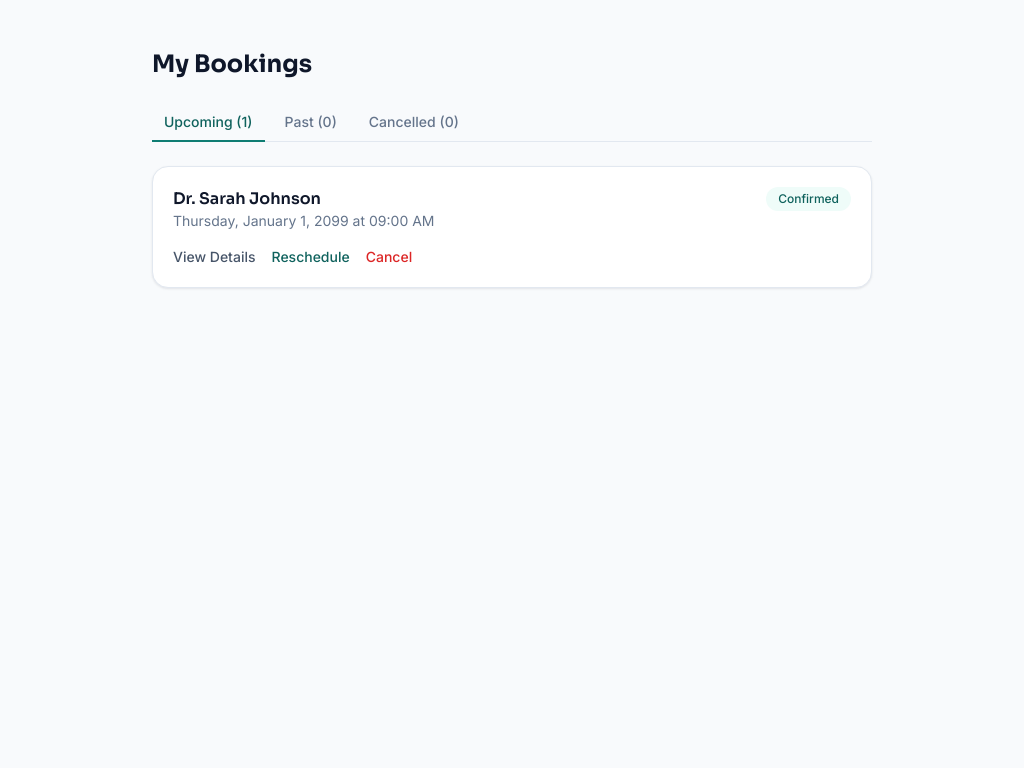
Scenario: MyBookings › shows an inline error when reschedule conflicts with another booking
expect the text "Dr. Sarah Johnson" is shown: met, box x1=173 y1=188 x2=321 y2=209
Click the button "Reschedule": (311, 257) x1=272 y1=247 x2=350 y2=267
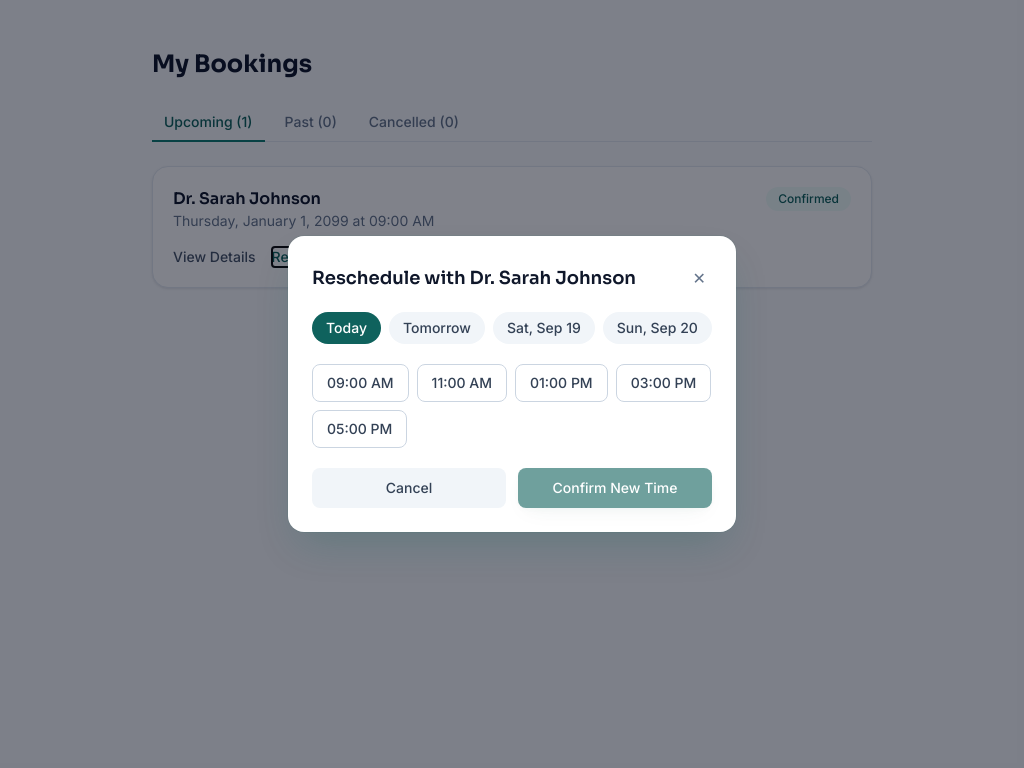
Click the button "09:00 AM": (360, 383) x1=312 y1=364 x2=409 y2=402
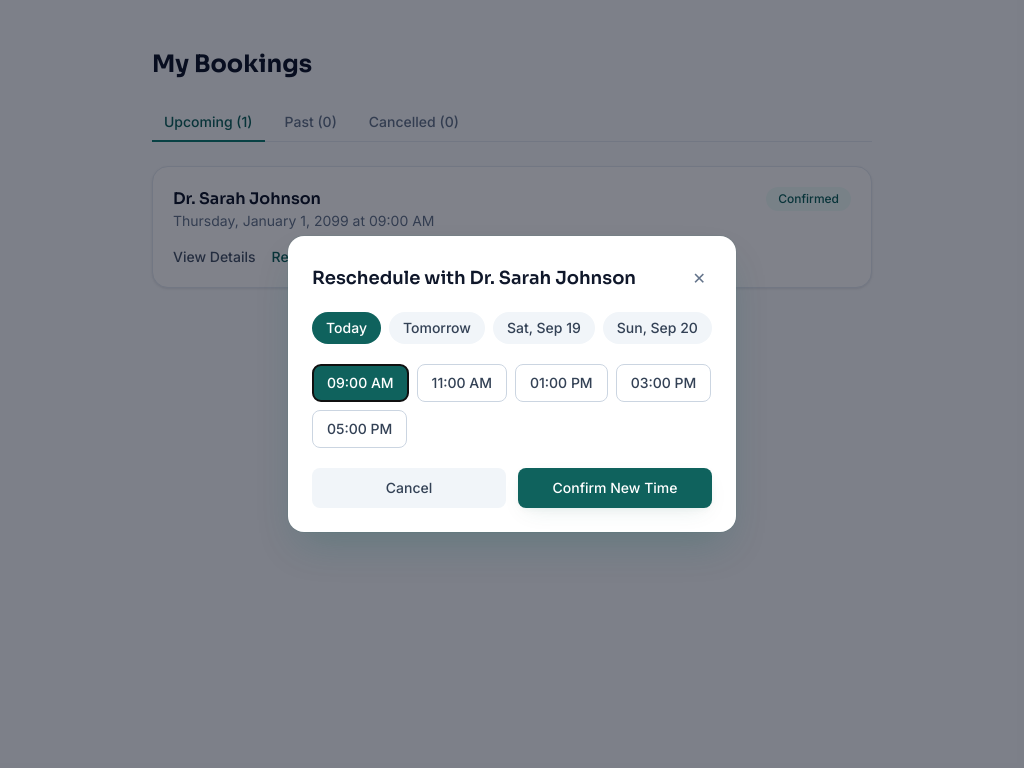
Click the button "Confirm New Time": (615, 488) x1=518 y1=468 x2=712 y2=508
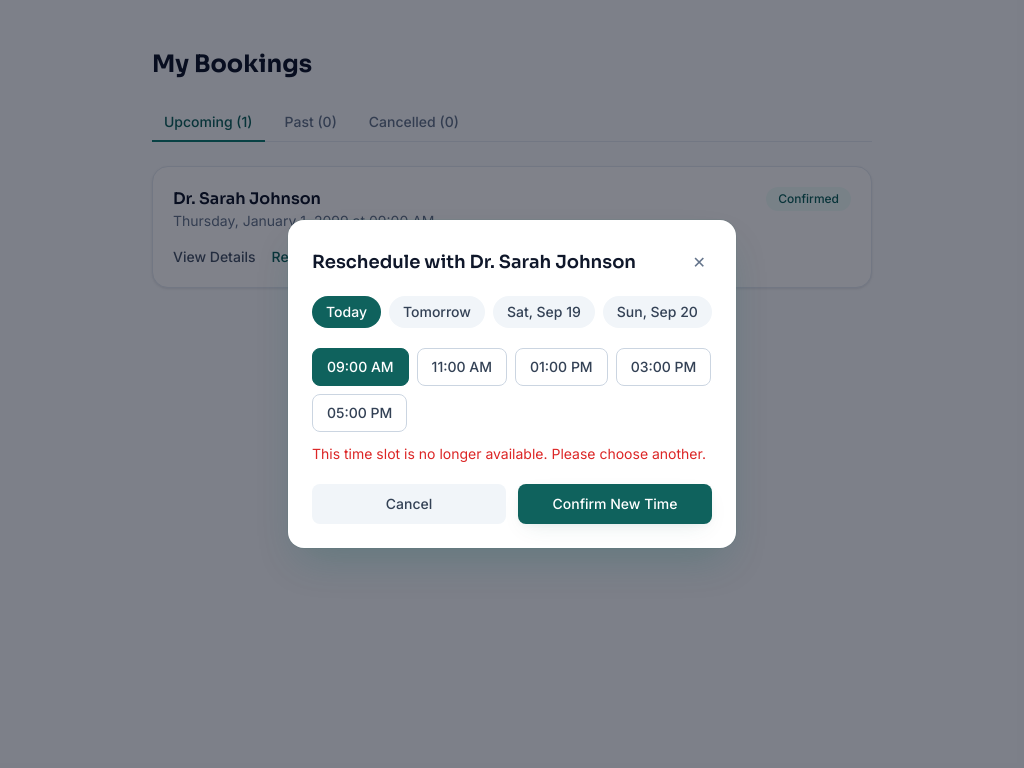
expect the message shows "no longer available": met, box x1=312 y1=445 x2=706 y2=462
